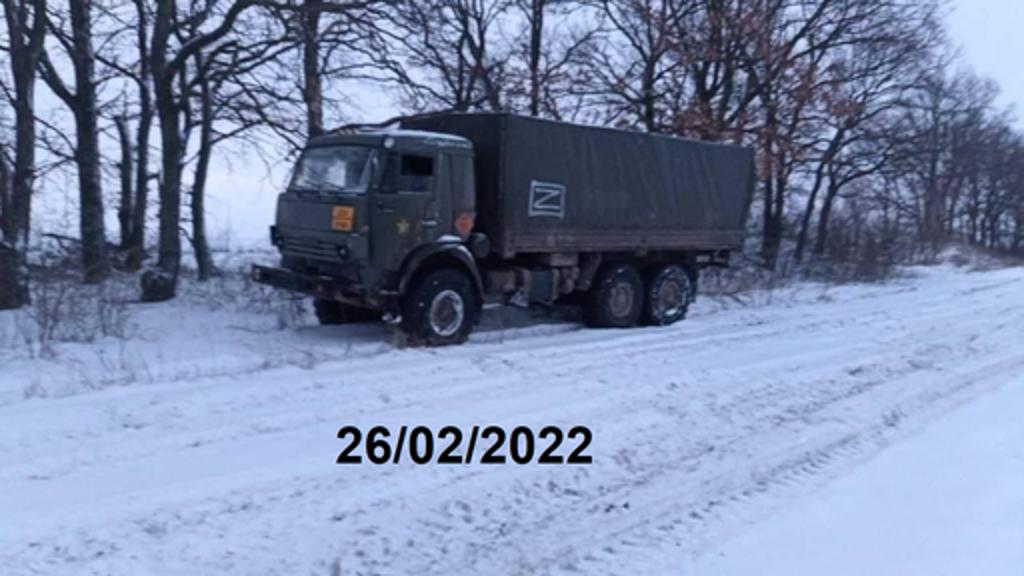TRUCK: (240, 88, 756, 346)
